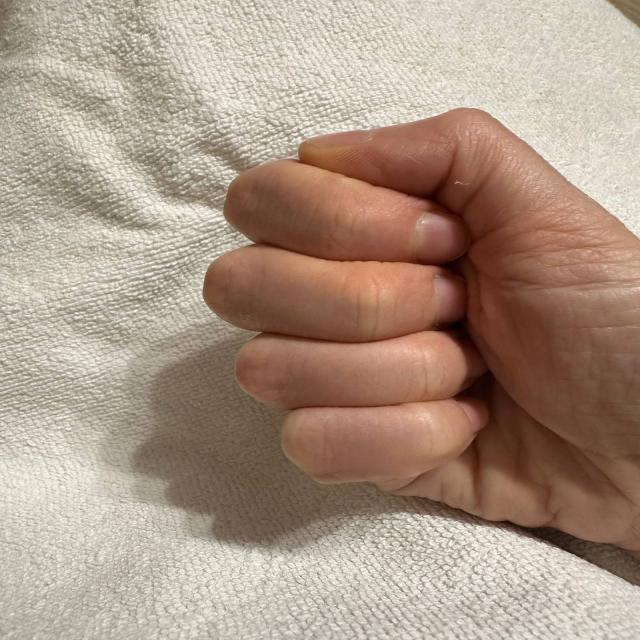a: (191, 78, 631, 557)
